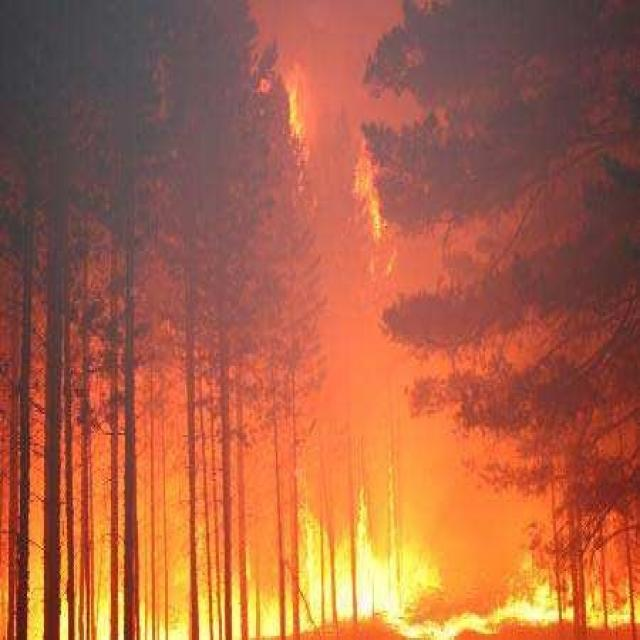fire: (1, 518, 633, 632), (348, 123, 389, 251), (280, 65, 316, 148)
